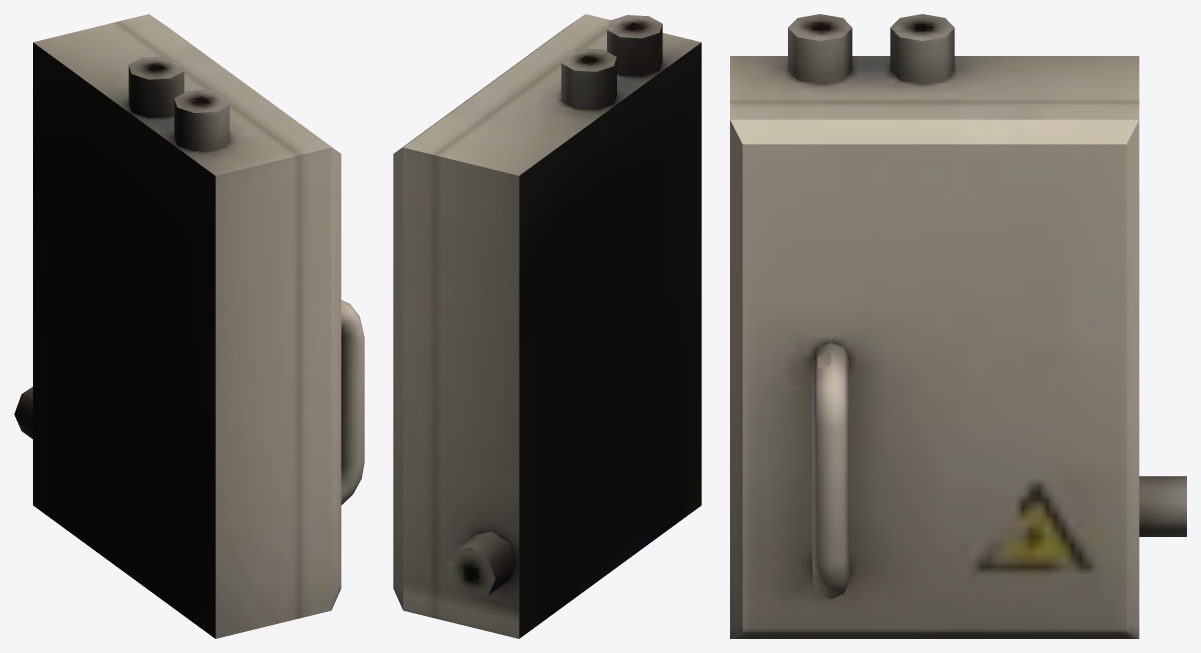
3 views of the same model, side by side, from view 1: azimuth 30°, elevation 25°; view 2: azimuth 150°, elevation 25°; view 3: azimuth 270°, elevation 25° (orthographic). The views are drawn at different scales.
Parts seen in each view (by area): view 1: body0_model0_lod0_mesh0; view 2: body0_model0_lod0_mesh0; view 3: body0_model0_lod0_mesh0.
Part boxes in pixels (x1=…): body0_model0_lod0_mesh0: x1=14, y1=14, x2=364, y2=638; body0_model0_lod0_mesh0: x1=393, y1=14, x2=701, y2=638; body0_model0_lod0_mesh0: x1=730, y1=14, x2=1186, y2=638.
Bounding box in the file's own units: 24.37 × 60.66 × 44.65.
Materials: 1 (1 with a texture image).
